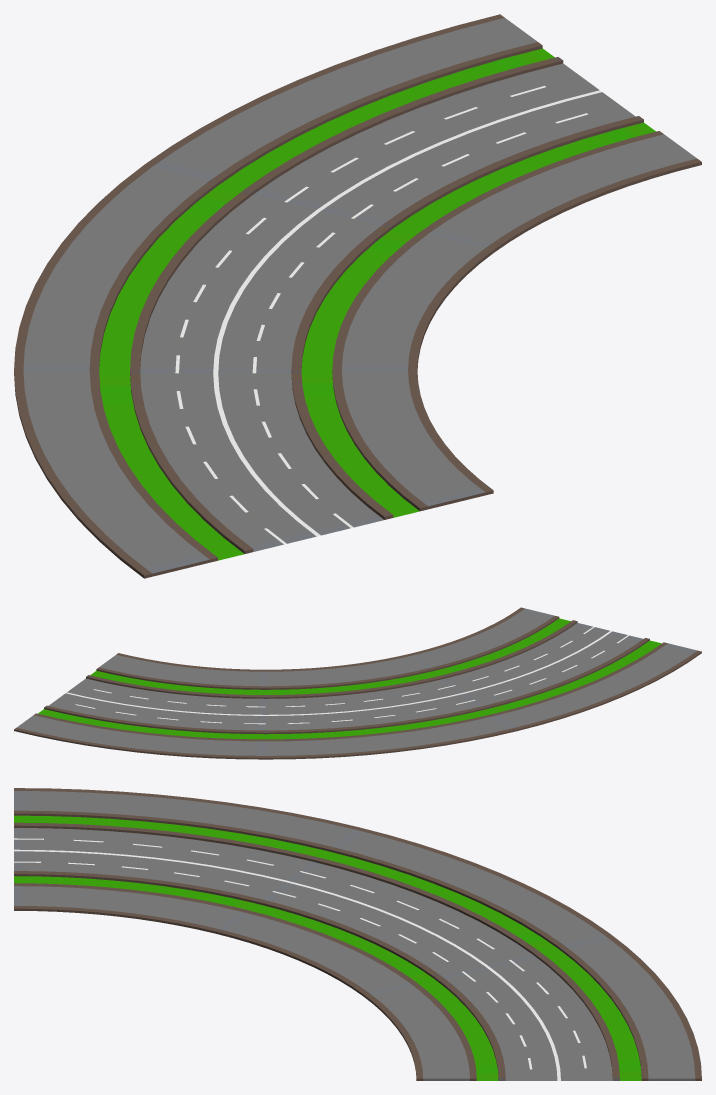
The model's file is SM_Road_P6.fbx.
The picture shows the model from 3 angles, top to bottom: view 1: azimuth 30°, elevation 25°; view 2: azimuth 150°, elevation 25°; view 3: azimuth 270°, elevation 25°; orthographic projection. The views are drawn at different scales.
Parts seen in each view (by area): view 1: SM_Road_P6; view 2: SM_Road_P6; view 3: SM_Road_P6.
Part boxes in pixels (left/top/right/bottom): SM_Road_P6: left=14, top=14, right=701, bottom=578; SM_Road_P6: left=14, top=607, right=701, bottom=759; SM_Road_P6: left=14, top=788, right=701, bottom=1080.
Bounding box in the file's own units: 867550 × 2992 × 867550.
